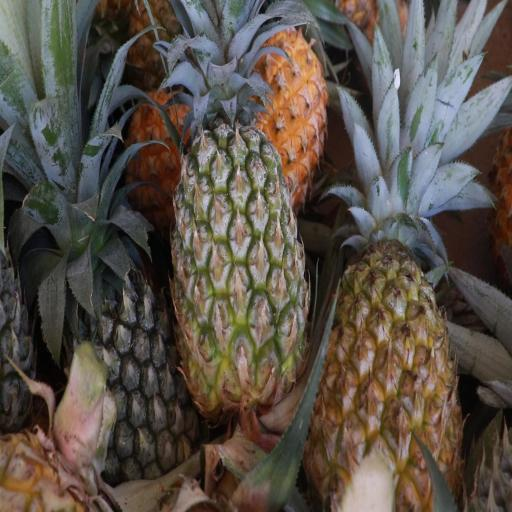------------------------------: (172, 116, 302, 407)
Pineapple - v8 v1: (312, 179, 462, 512), (165, 14, 326, 162)
